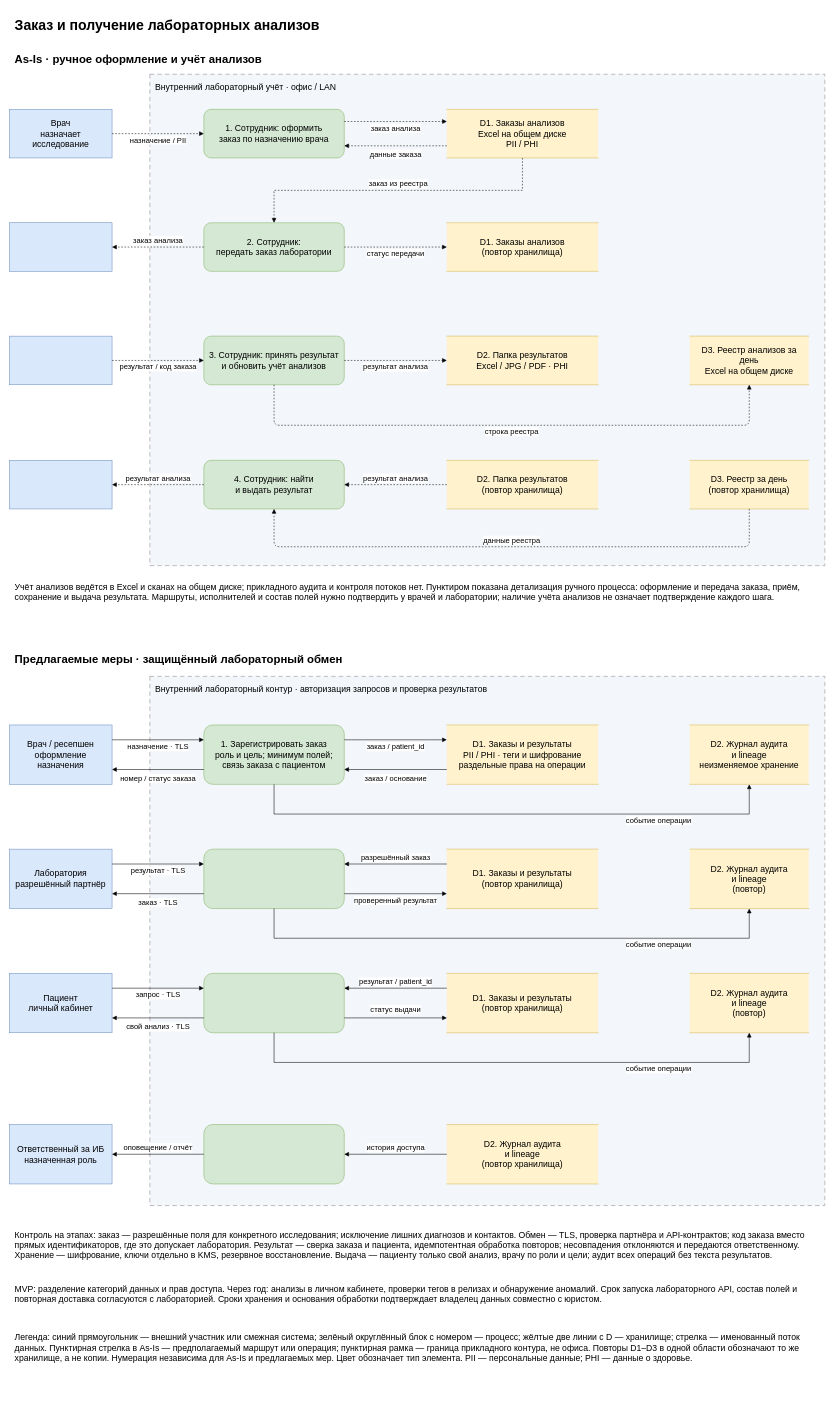
Some shapes in this 834 by 1401 pixel diagram are drawn without their labels. The centre of each missing label's shape, as x and y in pixels:
2. Обменяться анализами проверка партнёра и API; сверка заказа; защита от дублей: point 273,879
3. Выдать свой результат проверка patient_id / order_id; отказ при чужом заказе: point 273,1003
4. Анализировать события выявлять нетипичный доступ и направлять оповещения: point 273,1154
Лаборатория (повтор участника): point 60,360
Лаборатория внешний участник: point 60,246
Пациент / врач получатель результата: point 60,484
